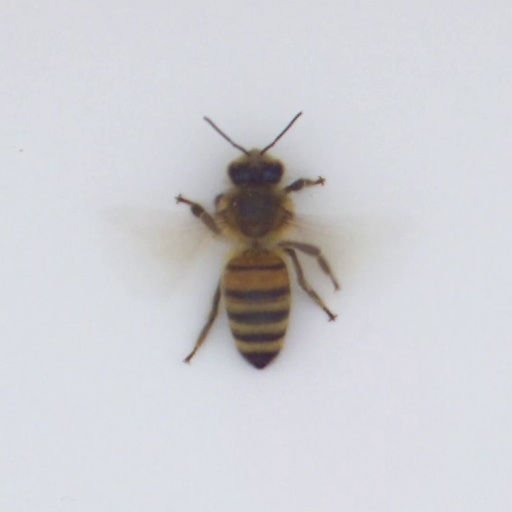Bee: (234, 155, 287, 359)
Thorax: (218, 190, 293, 239)
